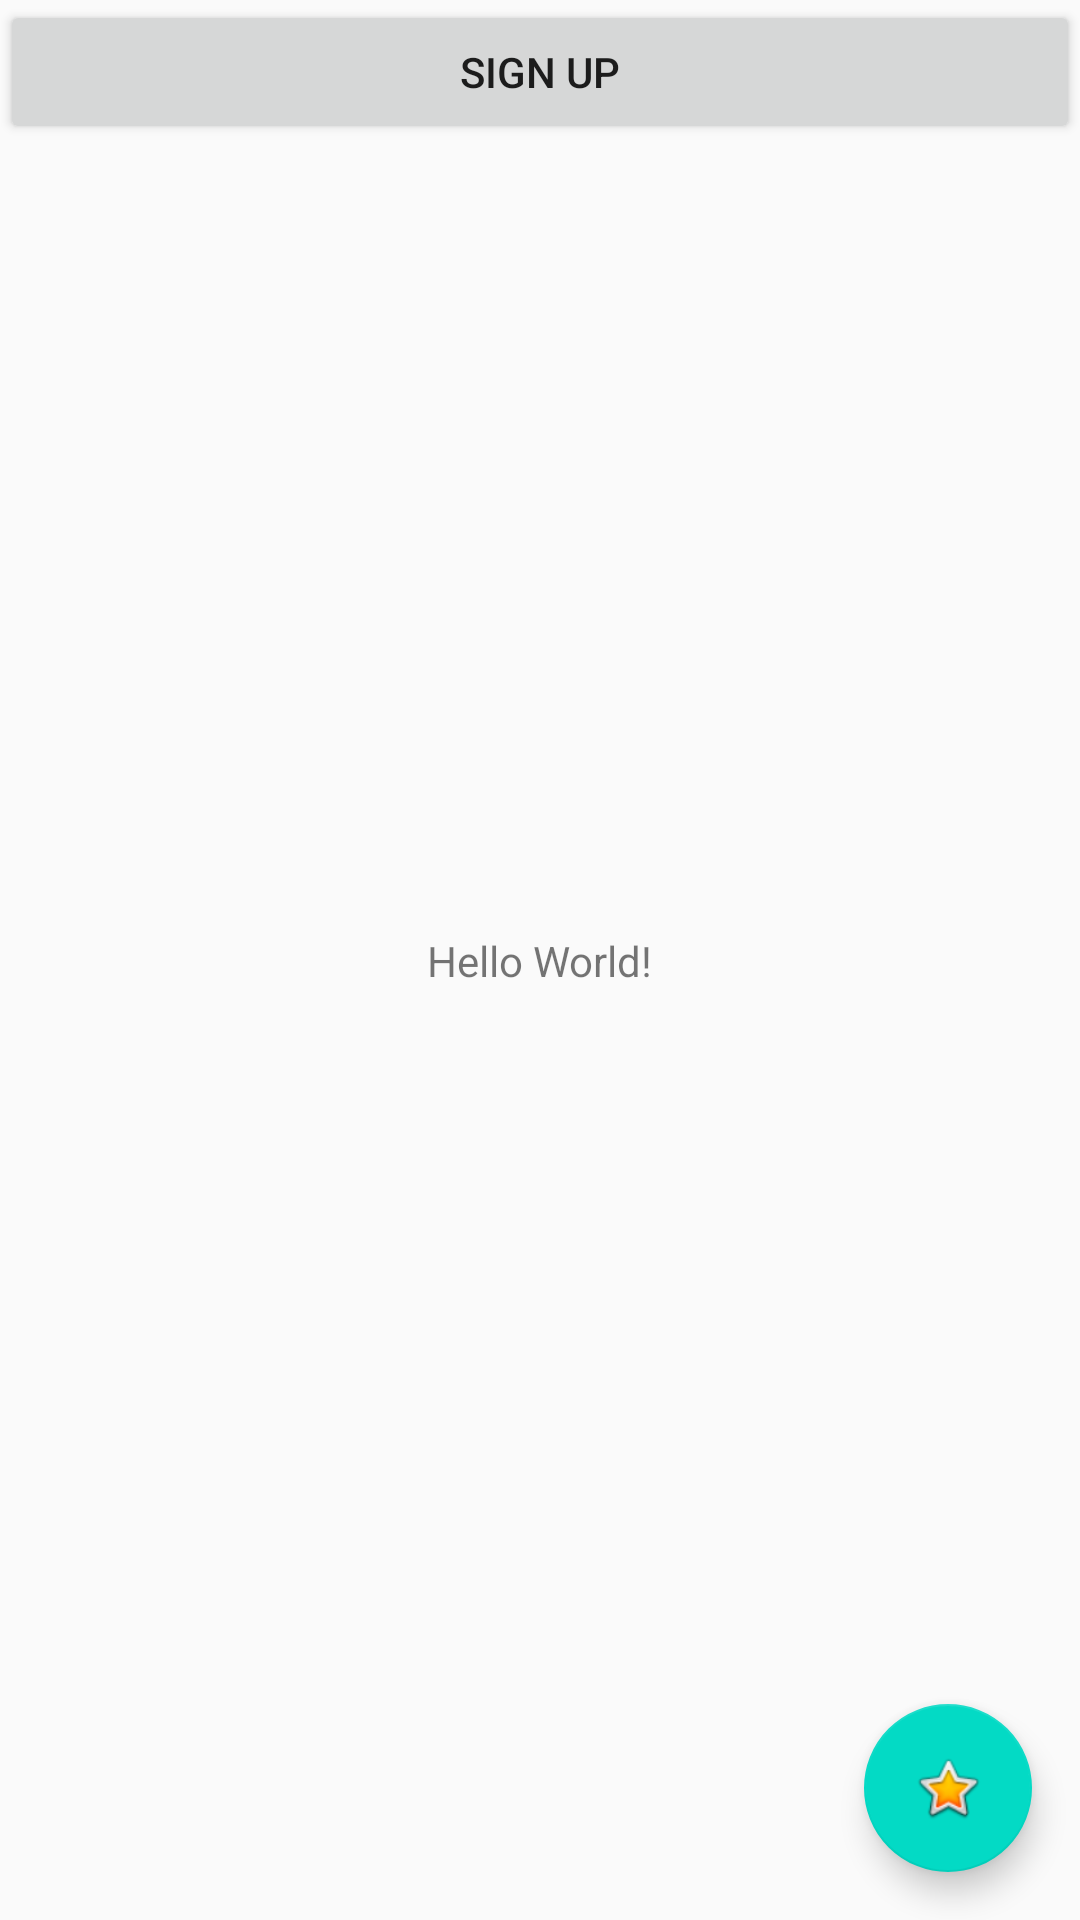

Icons on this 1080px x 1920px Android screen, each with its box as (x1, y1, x2, y2):
star on: (864, 1704, 1032, 1872)
